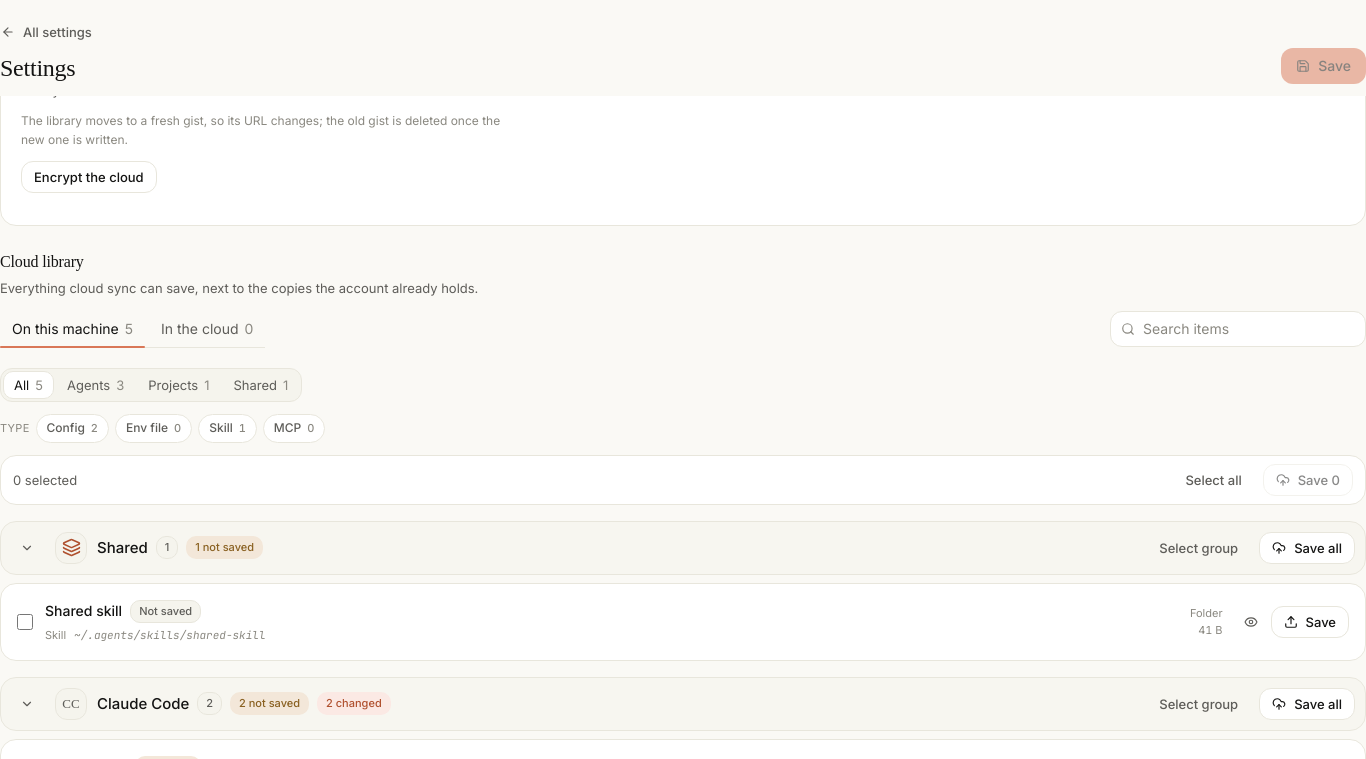
Test case: Settings → cloud sync › cuts the library into owner sub-tabs, each with what it holds
The width and height of the screenshot is (1366, 759).
(page scrolled)
Expected: the tab "Agents3" is shown, [56,371,135,399]
Expected: the 2nd text "5" is shown, [35,377,43,393]
What coordinates should you click on to do the following:
click the tab "Projects1"
I would click on:
 (179, 385)
Its box is [137,371,220,399].
(page scrolled)
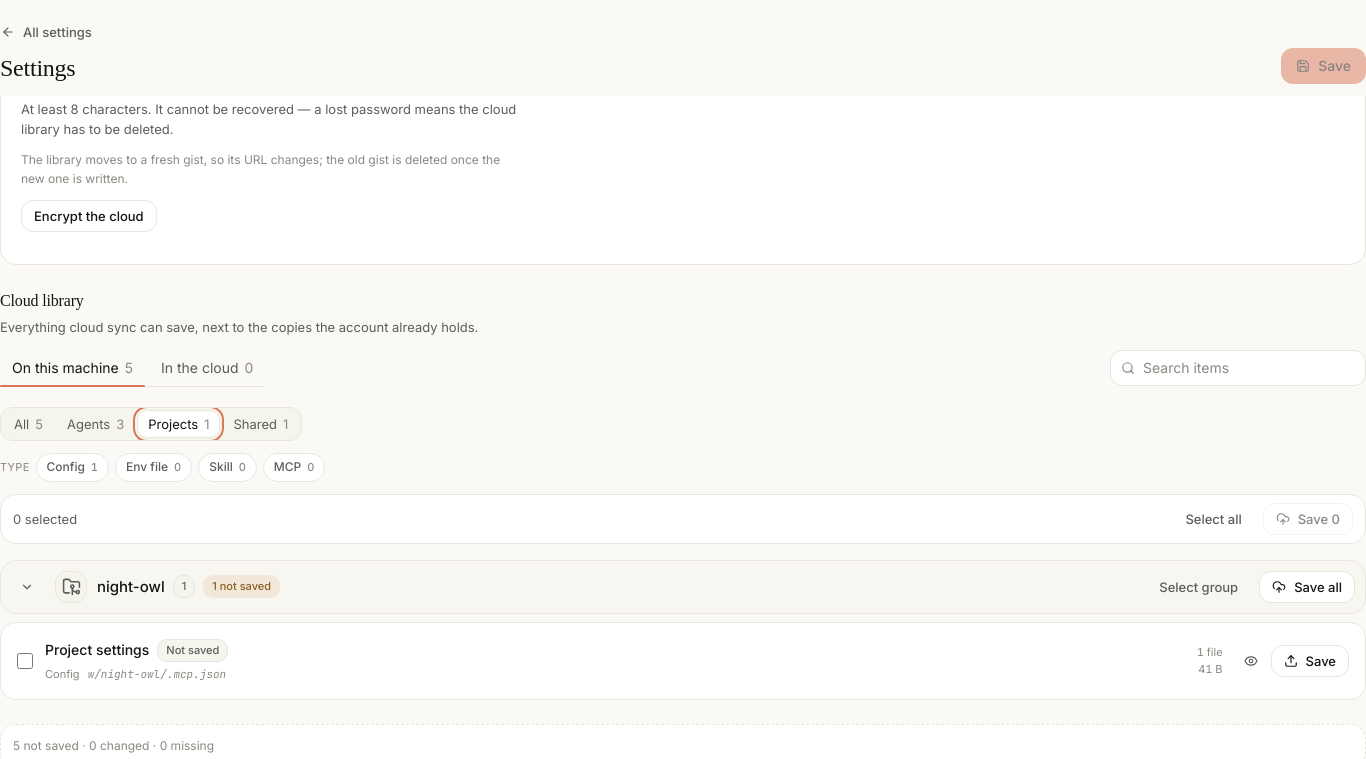
Now the checkbox named "Project settings" is shown, box [17,653,33,669]
Now the text "Shared skill" is gone
What coordinates should you click on to do the following:
click the tab "Shared1"
I would click on:
 (261, 424)
Its box is [222,410,299,438].
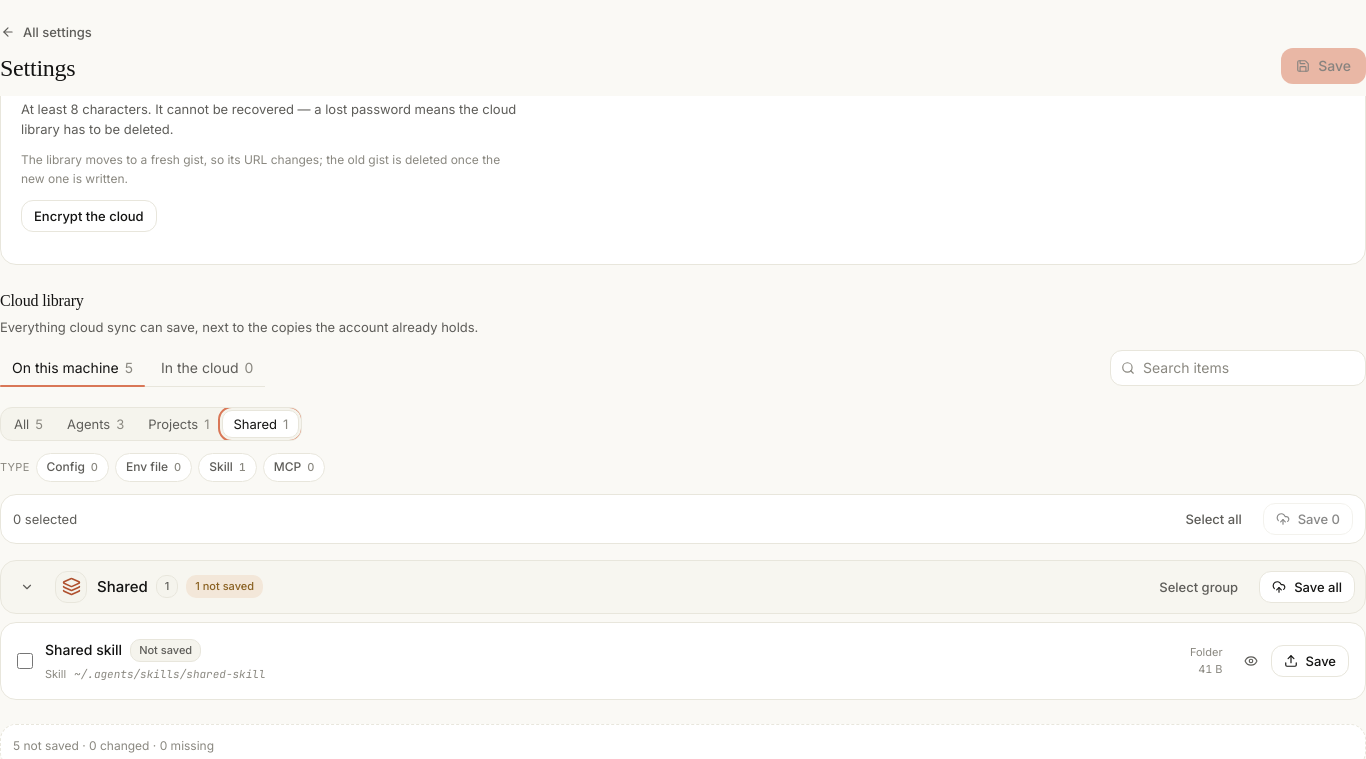
Expected: the checkbox named "Shared skill" is shown, [17,653,33,669]
Now the text "Project settings" is gone
